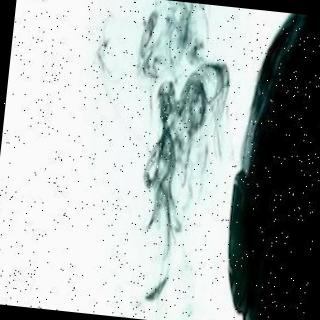smoke: (113, 8, 232, 268)
